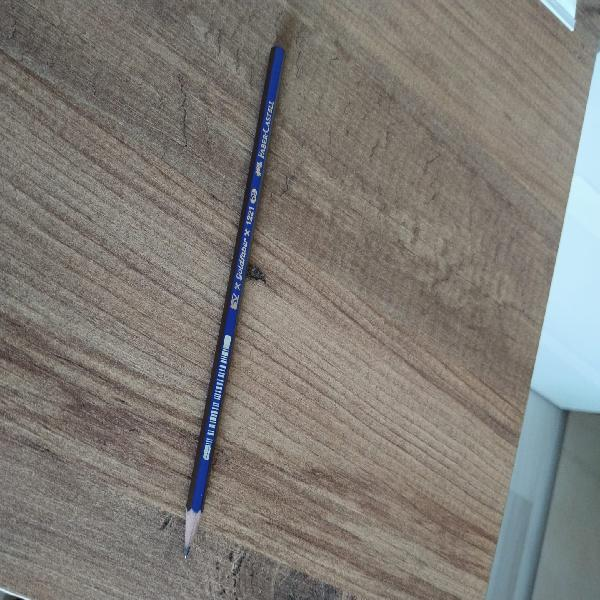pencil: (185, 46, 284, 557)
